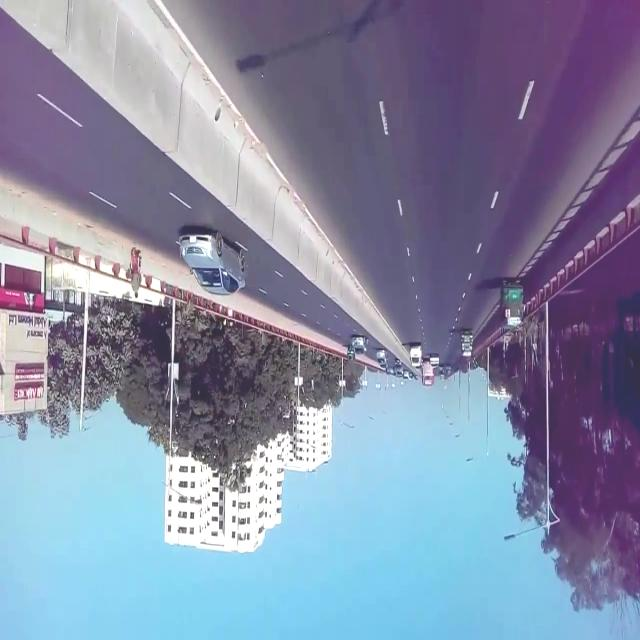silver: (179, 221, 247, 299), (351, 334, 367, 358)
